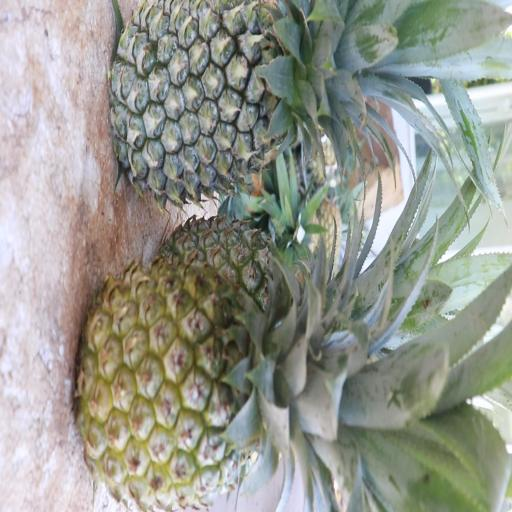------------------------------: (72, 249, 404, 512)
